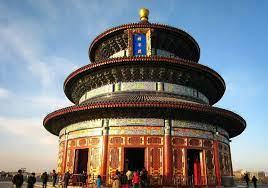Temple: (35, 6, 250, 183)
